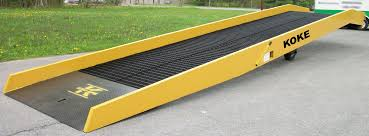Yard Ramp: (4, 4, 368, 134)
